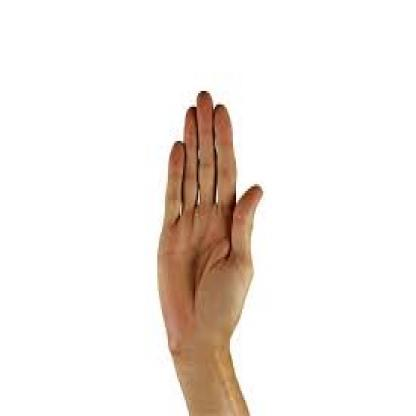stop: (150, 84, 264, 364)
